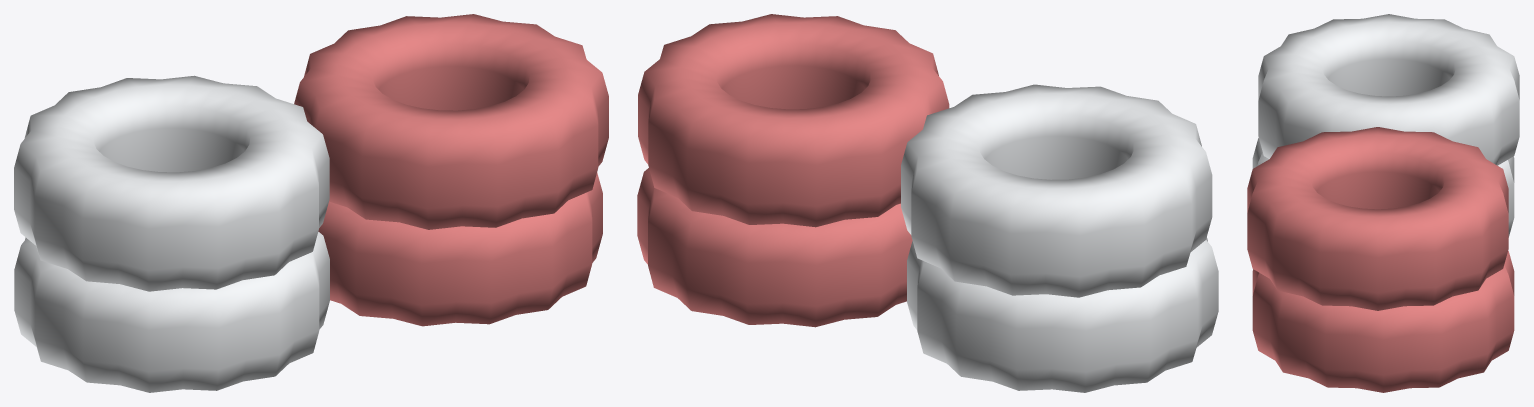
Rendered from tire_stack.glb.
3 views of the same model, side by side, from view 1: azimuth 30°, elevation 25°; view 2: azimuth 150°, elevation 25°; view 3: azimuth 270°, elevation 25° (orthographic). The views are drawn at different scales.
Parts seen in each view (by area): view 1: Tire_W2, Tire_R2, Tire_W1, Tire_R1; view 2: Tire_W2, Tire_R2, Tire_W1, Tire_R1; view 3: Tire_R2, Tire_W2, Tire_R1, Tire_W1.
Part boxes in pixels (box(x1,y1,x2,y2)): Tire_W2: box(14, 75, 329, 291); Tire_R2: box(294, 14, 608, 229); Tire_W1: box(14, 232, 329, 392); Tire_R1: box(318, 172, 602, 326); Tire_W2: box(901, 84, 1212, 297); Tire_R2: box(638, 14, 949, 227); Tire_W1: box(907, 237, 1218, 392); Tire_R1: box(637, 168, 912, 327); Tire_R2: box(1247, 127, 1508, 310); Tire_W2: box(1258, 14, 1519, 165); Tire_R1: box(1252, 251, 1514, 392); Tire_W1: box(1252, 138, 1514, 237).
Size of the model in its own units: 1.93 by 0.67 by 0.9798.
